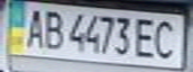3: (112, 14, 136, 56)
4: (66, 10, 87, 52), (81, 11, 100, 54)
7: (97, 12, 118, 55)
A: (21, 4, 48, 50)
B: (39, 7, 66, 51)
C: (151, 17, 181, 61)
E: (133, 15, 160, 60)
